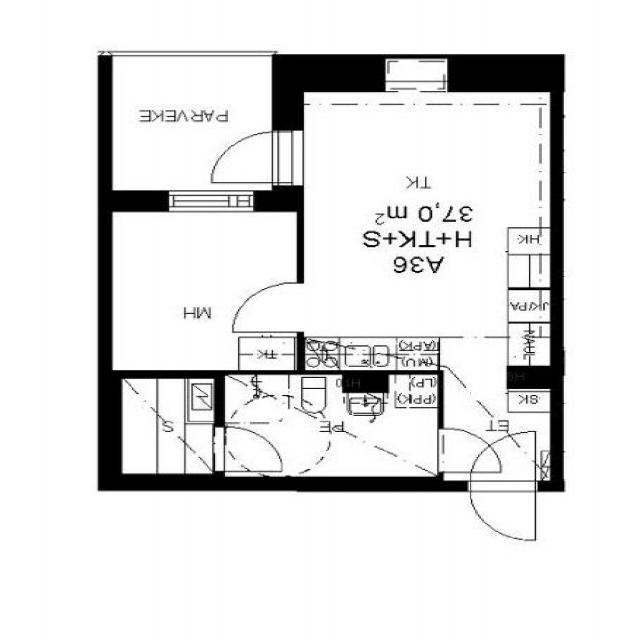door: (204, 130, 303, 183), (470, 481, 534, 541), (470, 431, 534, 491), (234, 283, 304, 332), (214, 427, 282, 471), (437, 429, 500, 472)
